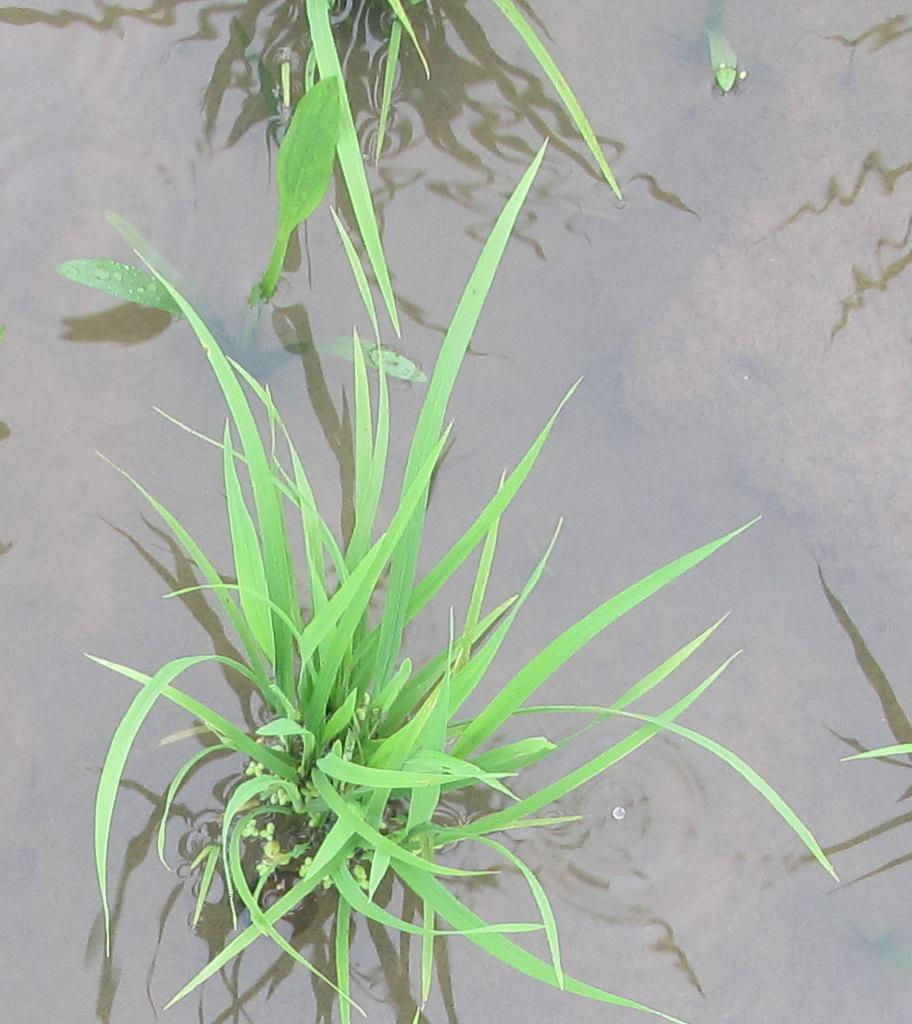Weed: (255, 72, 353, 303), (53, 225, 203, 344)
